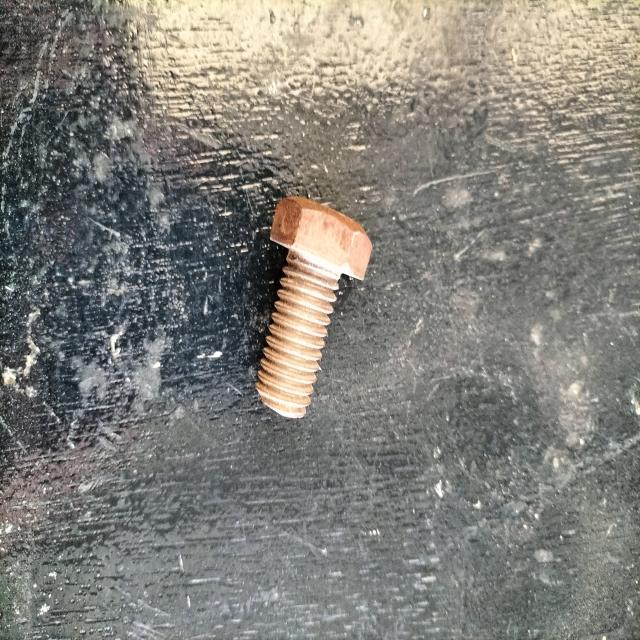bolt: (256, 195, 372, 420)
